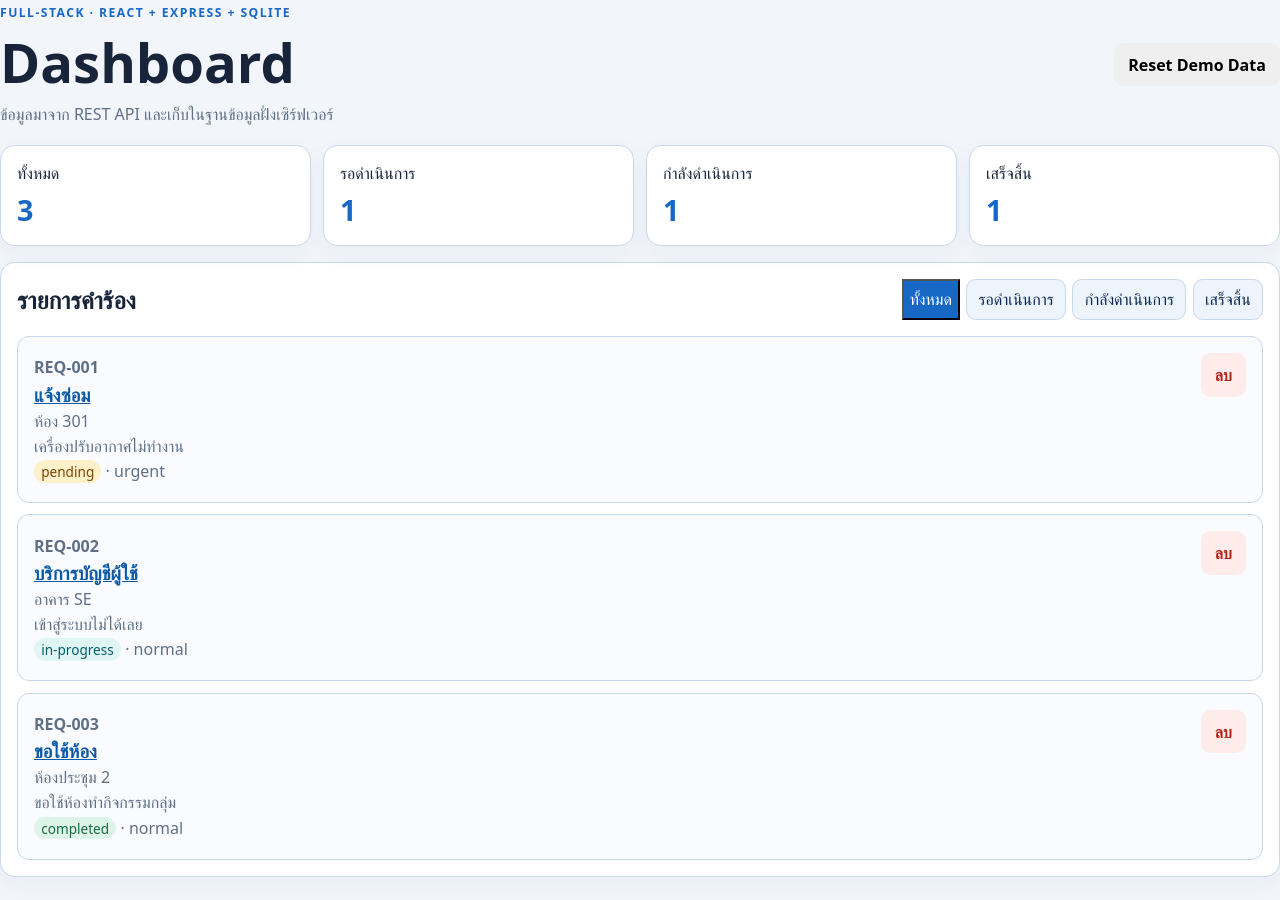
Test: DashboardPage › ลบผ่าน service แล้วอัปเดตรายการด้วยข้อมูลที่ server คืนมา
The image size is (1280, 900).
Expected: the element with test id "request-list" is shown, [17,336,1263,860]
Click the button with aria-label "ลบคำร้อง REQ-001".
click(1223, 375)  # box [1201,353,1246,397]
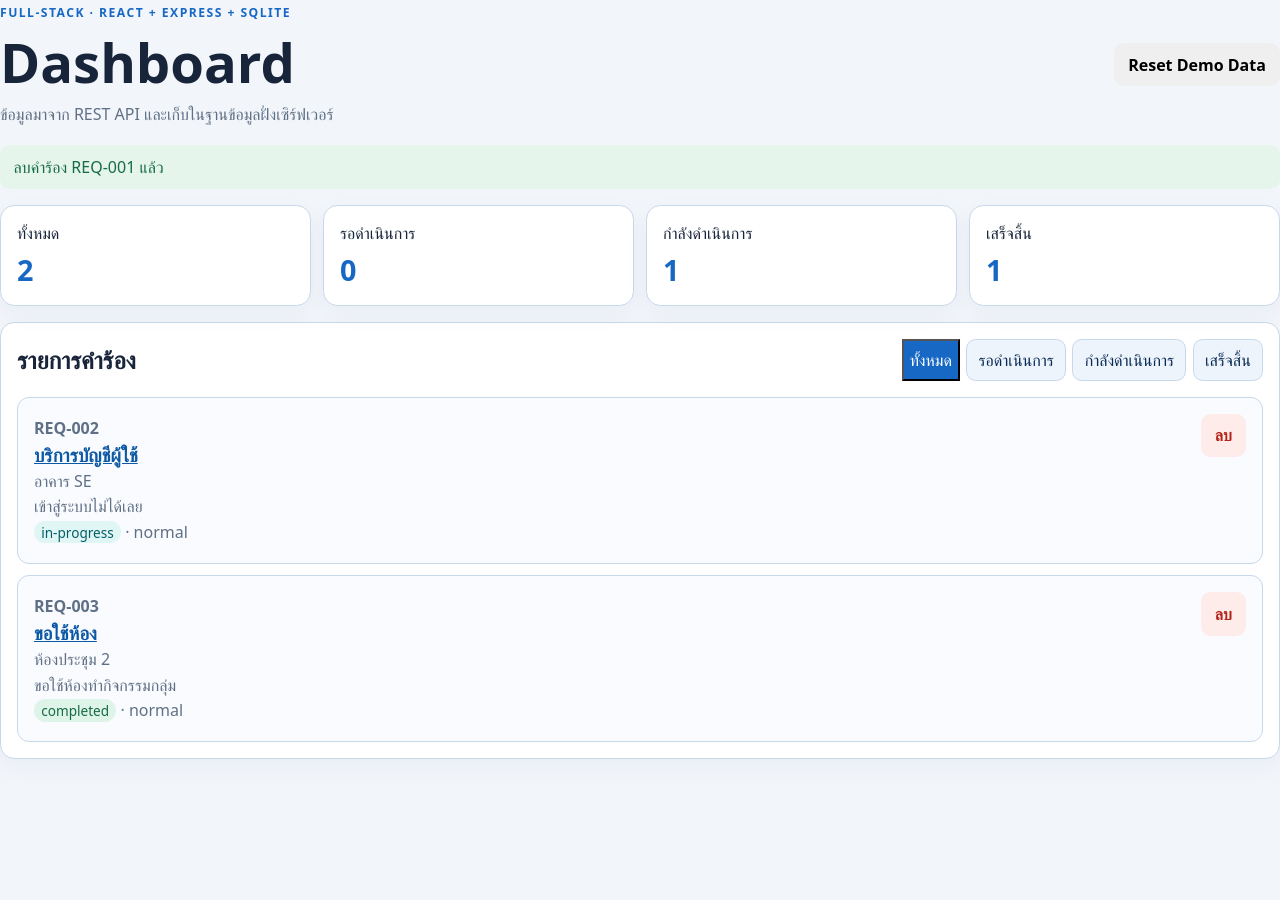
Expected: the text "ลบคำร้อง REQ-001 แล้ว" is shown, [0,145,1279,189]
